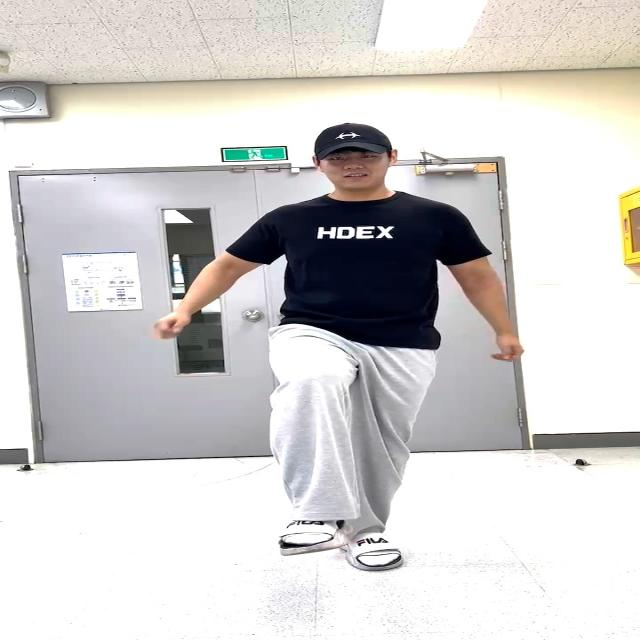leg: (269, 332, 352, 550)
